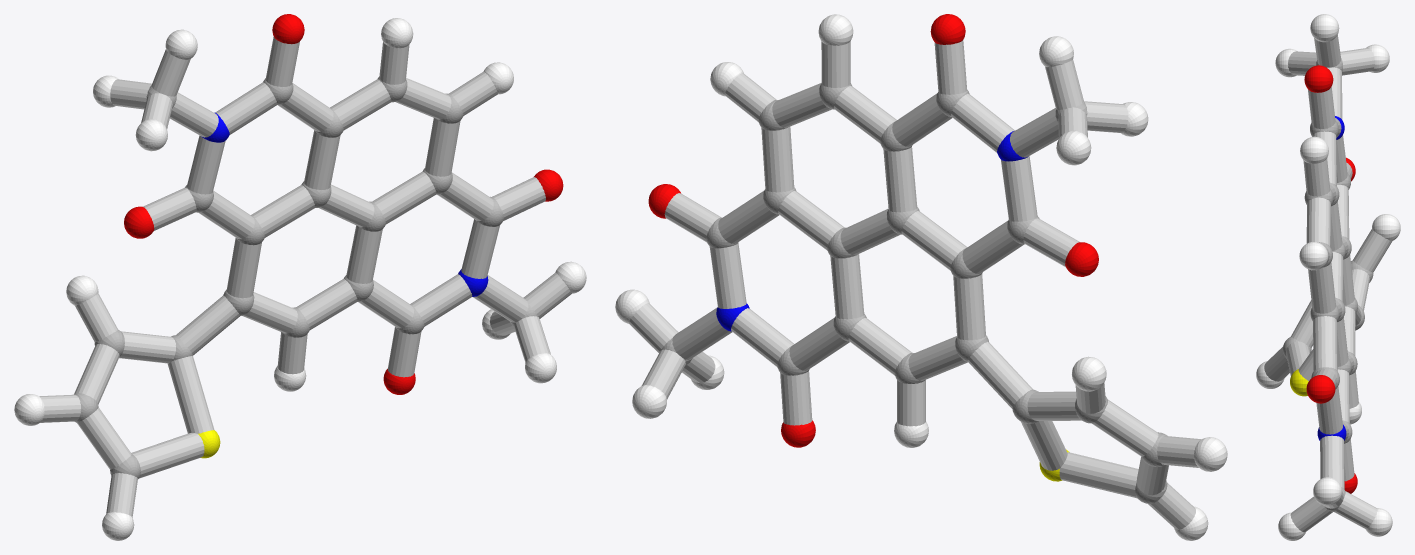
The model's file is Dimethyl_Naphthalene_Dicarboximide_Phi_25_Theta_30_Thiophene.glb.
3 views of the same model, side by side, from view 1: azimuth 30°, elevation 25°; view 2: azimuth 150°, elevation 25°; view 3: azimuth 270°, elevation 25° (orthographic). The views are drawn at different scales.
Visible parts, largest first — view 1: grp14119, grp7241, grp1, grp12309, grp11585; view 2: grp14119, grp7241, grp1, grp12309, grp11585; view 3: grp14119, grp7241, grp1, grp12309, grp13757, grp11585.
Boxes of the visible parts, x1,y1,x2,y2 form: grp14119: (39, 37, 571, 517); grp7241: (14, 18, 586, 540); grp1: (74, 77, 537, 478); grp12309: (124, 14, 563, 394); grp11585: (201, 112, 488, 296); grp14119: (629, 40, 1201, 529); grp7241: (615, 14, 1227, 540); grp1: (661, 83, 1167, 503); grp12309: (648, 14, 1098, 447); grp11585: (716, 131, 1028, 331); grp14119: (1264, 35, 1392, 532); grp7241: (1256, 14, 1400, 540); grp1: (1282, 58, 1373, 511); grp12309: (1304, 65, 1357, 493); grp13757: (1290, 369, 1308, 396); grp11585: (1317, 116, 1346, 440).
Size of the model in its own units: 12.11 by 9.49 by 3.01.
